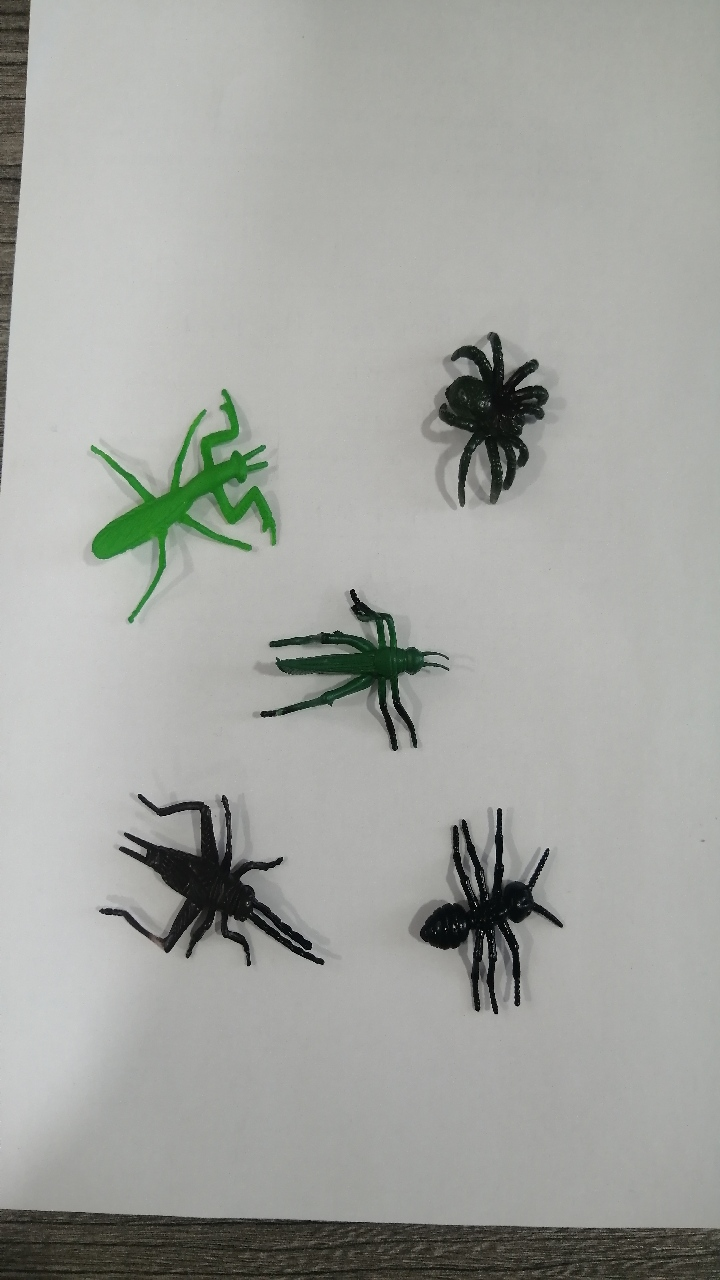intruso: (37, 346, 291, 632), (69, 766, 343, 997), (384, 771, 592, 1055), (380, 299, 584, 552), (235, 579, 466, 766)
